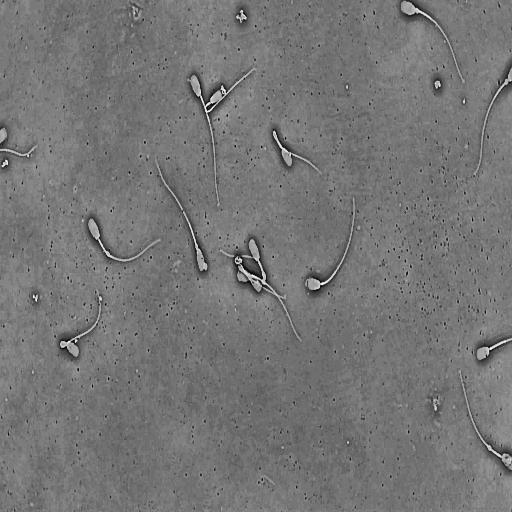dirt-particles: (235, 6, 249, 24), (433, 77, 443, 92), (234, 254, 244, 266), (1, 157, 10, 170), (32, 292, 39, 303), (203, 262, 207, 271)
distal-droplet: (106, 250, 110, 258), (487, 445, 492, 451)
folded-tail: (203, 65, 255, 113), (273, 130, 319, 171), (238, 264, 286, 299), (220, 249, 266, 281), (68, 298, 100, 342), (60, 341, 68, 348)
loose-tail: (0, 142, 39, 158)
normal: (457, 366, 512, 473), (155, 160, 206, 274), (399, 0, 467, 85), (237, 267, 304, 344), (305, 195, 356, 293), (473, 63, 512, 179), (189, 71, 221, 208), (87, 215, 162, 263), (58, 285, 102, 360), (204, 65, 257, 115), (271, 127, 323, 176), (218, 237, 267, 282), (237, 264, 288, 302), (474, 335, 512, 361)
proximal-droplet: (504, 78, 509, 86), (415, 7, 419, 14), (195, 243, 198, 251)
